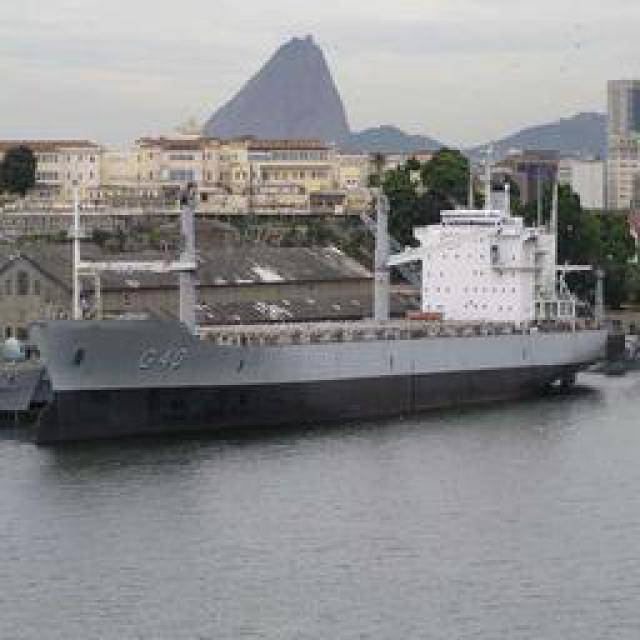Ship: (20, 203, 623, 441)
